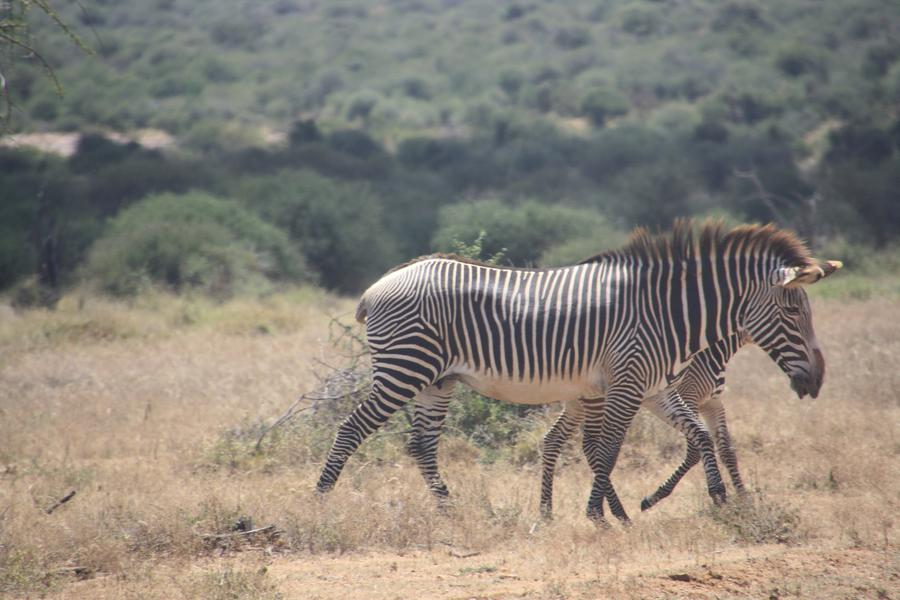zebra_grevys: (365, 260, 658, 388)
